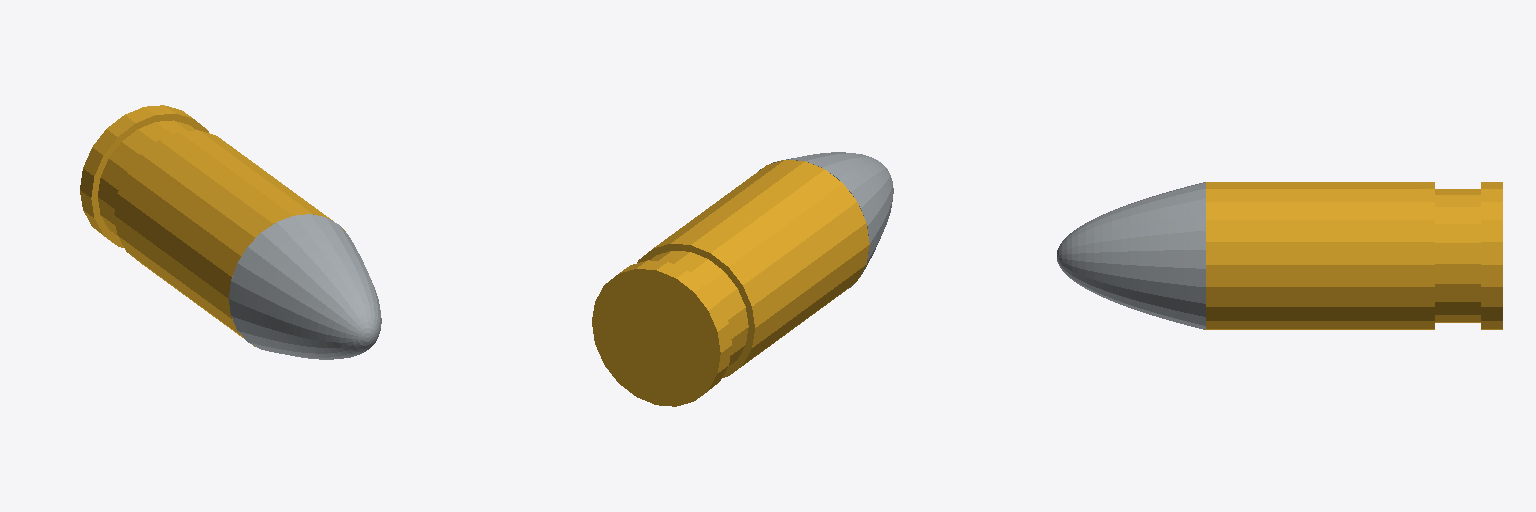
File: tinker.obj
3 views of the same model, side by side, from view 1: azimuth 30°, elevation 25°; view 2: azimuth 150°, elevation 25°; view 3: azimuth 270°, elevation 25° (orthographic).
Parts seen in each view (by area): view 1: obj_0; view 2: obj_0; view 3: obj_0.
Boxes of the visible parts, x1=… form: obj_0: x1=80, y1=105, x2=381, y2=359; obj_0: x1=592, y1=152, x2=893, y2=406; obj_0: x1=1057, y1=182, x2=1502, y2=329.
Size of the model in its own units: 5 by 5 by 15.